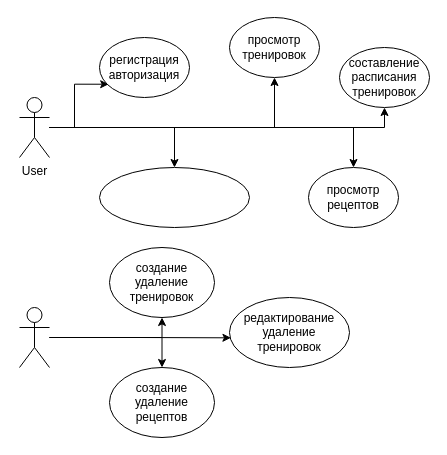
This 447x455 diagram has some shape labels left out. The shapes that lost their labels are listed below. From the top down, each one's centre as x and y in pixels, then its label:
At pixel 174 197: "добавление\удаление тренировок в избранное".
At pixel 34 337: "Admin".
